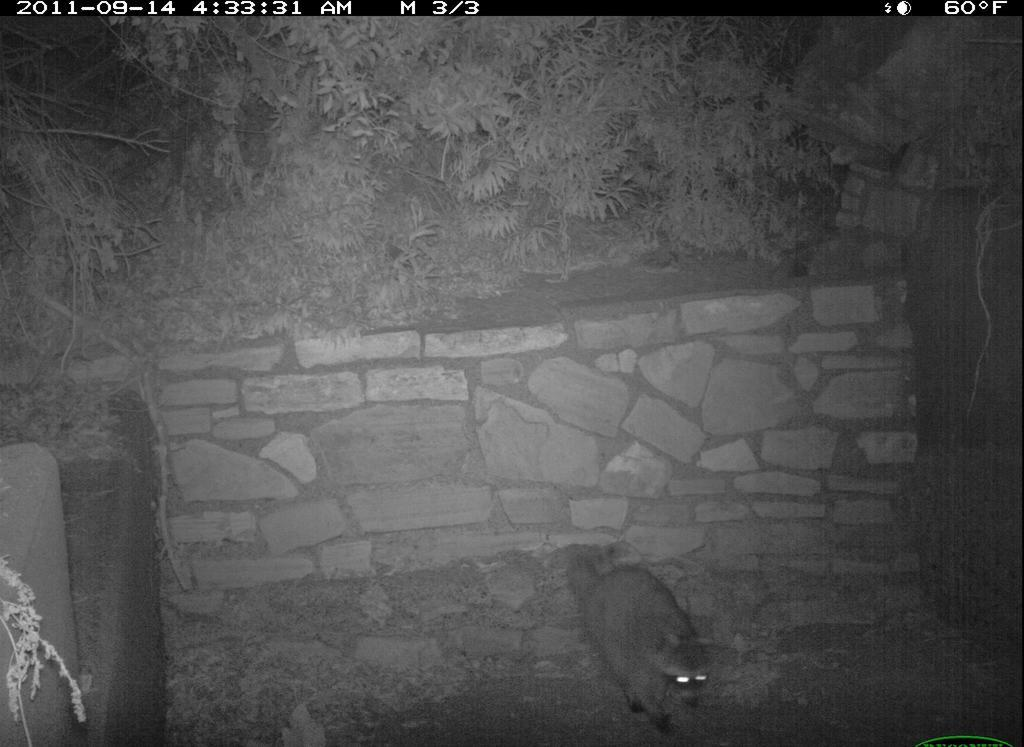raccoon: (562, 541, 719, 725)
